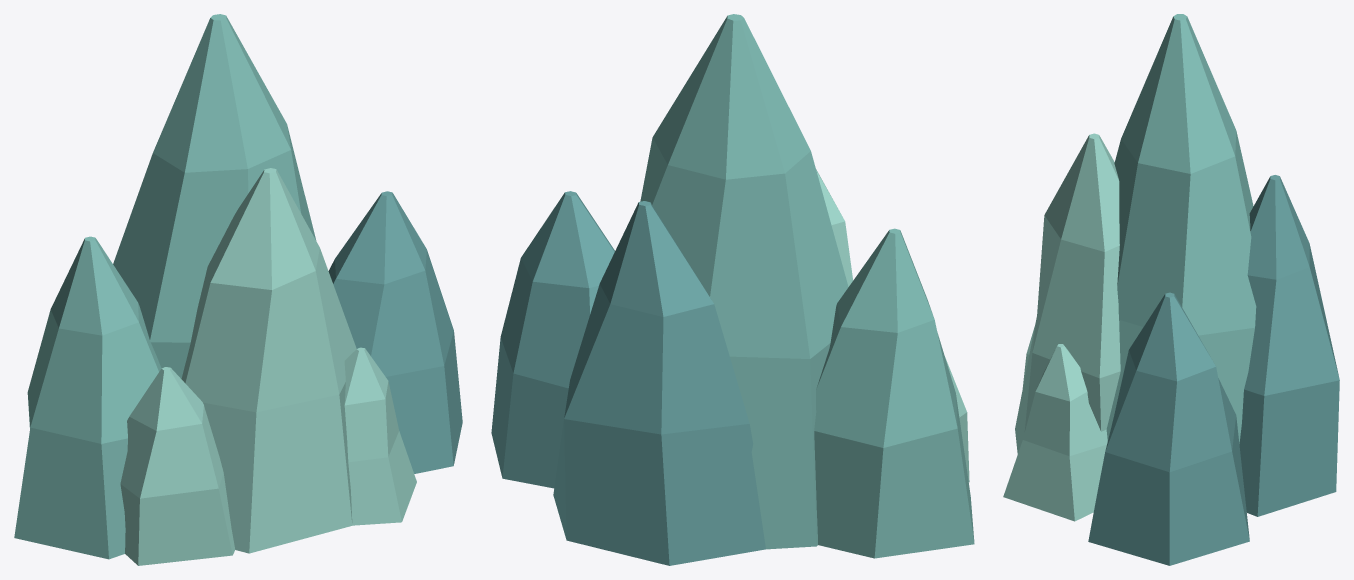
The model's file is Stage_01_青绿剪纸奇石.glb.
3 renders of one model, left to right at view 1: azimuth 30°, elevation 25°; view 2: azimuth 150°, elevation 25°; view 3: azimuth 270°, elevation 25°, orthographic. The views are drawn at different scales.
Visible parts, largest first — view 1: Peak_Front, Peak_Main, Peak_Left, Peak_Right, Peak_FL, Peak_FR; view 2: Peak_Main, Peak_Back, Peak_Left, Peak_Right, Peak_Front, Peak_FL; view 3: Peak_Main, Peak_Right, Peak_Back, Peak_Front, Peak_FR.
Boxes of the visible parts, box(x1,y1,x2,y2) form: Peak_Front: box(181, 168, 356, 553); Peak_Main: box(113, 14, 316, 378); Peak_Left: box(14, 236, 161, 559); Peak_Right: box(328, 191, 462, 473); Peak_FL: box(120, 367, 235, 565); Peak_FR: box(344, 347, 416, 525); Peak_Main: box(640, 14, 848, 549); Peak_Back: box(553, 201, 765, 565); Peak_Left: box(814, 228, 974, 558); Peak_Right: box(491, 191, 614, 488); Peak_Front: box(816, 169, 852, 286); Peak_FL: box(945, 357, 969, 482); Peak_Main: box(1106, 14, 1256, 443); Peak_Right: box(1088, 292, 1249, 565); Peak_Back: box(1239, 175, 1339, 516); Peak_Front: box(1015, 133, 1120, 453); Peak_FR: box(1003, 344, 1107, 521).
Size of the model in its own units: 2.85 by 2.75 by 1.92.
